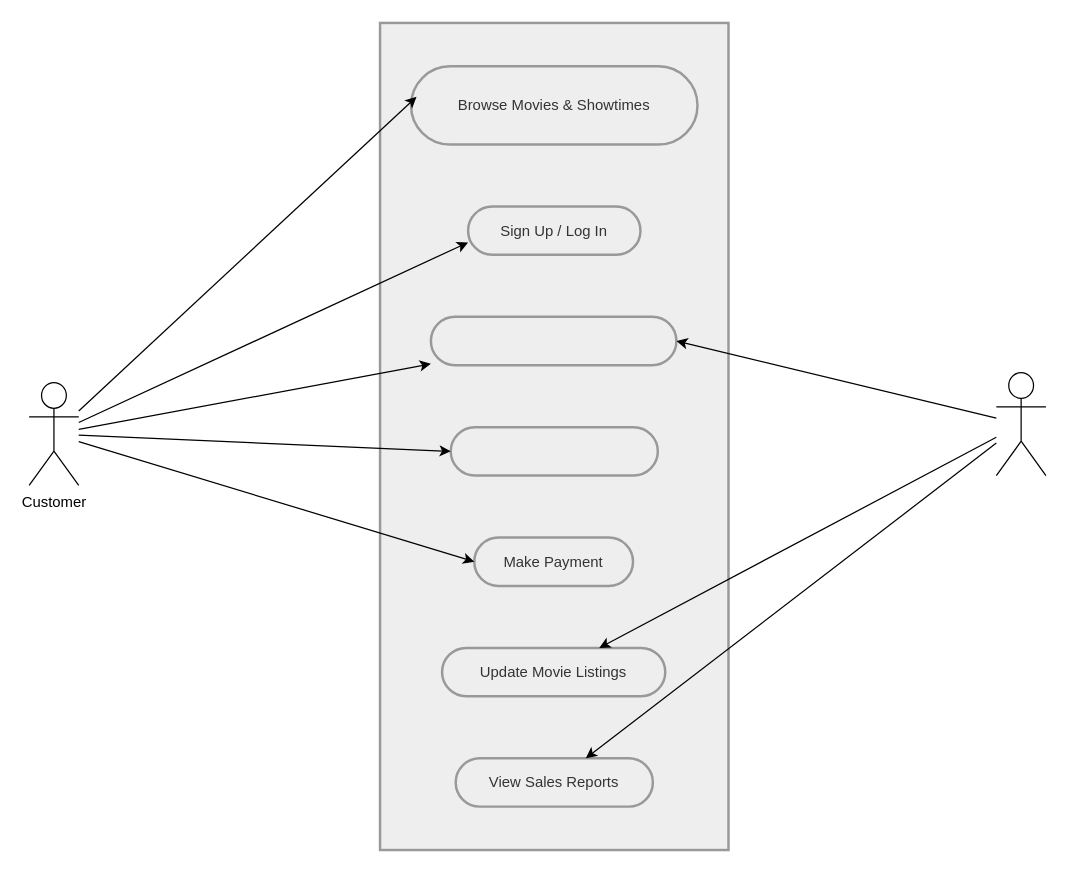
The diagram is 1068 pixels wide and 872 high, and some of its shapes have lost their labels. The shapes that lost their labels are listed below. From the top down, each one's centre as x and y in pixels, then its label:
At point 553,340: "Forgot / Reset Password".
At point 1020,423: "Admin".
At point 553,450: "Select & Book Seats".
